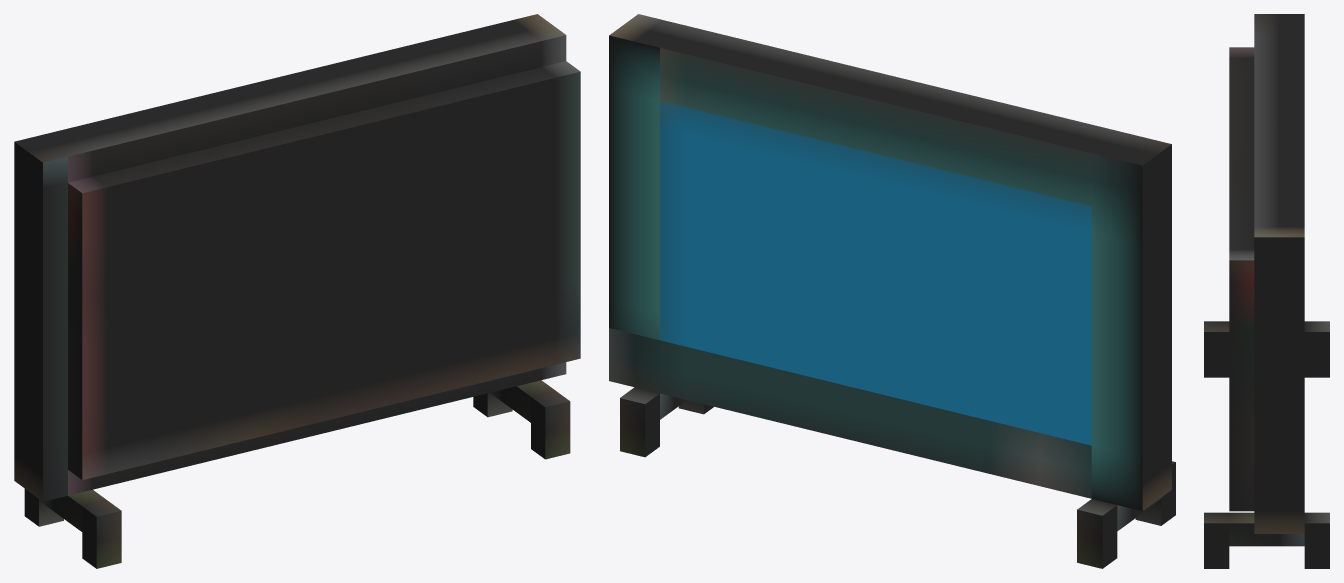
Rendered from TVWithStand_01.obj.
3 renders of one model, left to right at view 1: azimuth 30°, elevation 25°; view 2: azimuth 150°, elevation 25°; view 3: azimuth 270°, elevation 25°, orthographic. The views are drawn at different scales.
Parts seen in each view (by area): view 1: TVWithStand_01; view 2: TVWithStand_01; view 3: TVWithStand_01.
Boxes of the visible parts, bbox=[...] form: TVWithStand_01: bbox=[14, 14, 580, 568]; TVWithStand_01: bbox=[609, 14, 1175, 568]; TVWithStand_01: bbox=[1204, 14, 1329, 568].
Size of the model in its own units: 1.05 by 0.75 by 0.25.
